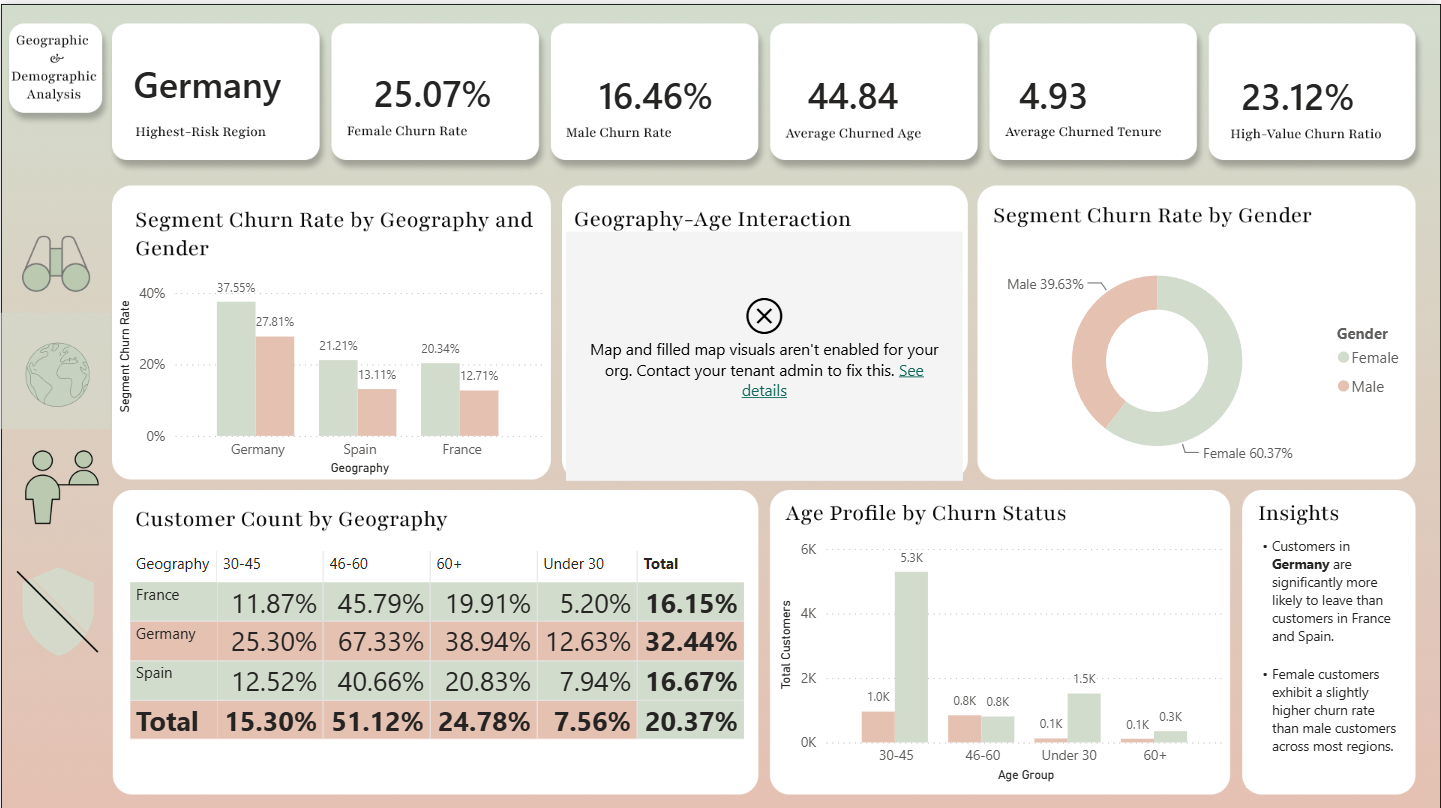

Layout of this report page (visuals, bound fields, positions):
{"tool":"powerbi","page":{"name":"Geographic & Demographic Analysis","canvas":[1280,720],"ordinal":1},"visuals":[{"type":"cardVisual","fields":{"Data":["Measures (2).Highest-Risk Region"]},"box":[88.8,15,191.2,108.8],"z":0},{"type":"cardVisual","fields":{"Data":["Measures (2).Female Churn Rate"]},"box":[302.5,23.8,175,108.8],"z":1000},{"type":"cardVisual","fields":{"Data":["Measures (2).Male Churn Rate"]},"box":[502.5,25,160,108.8],"z":2000},{"type":"cardVisual","fields":{"Data":["Measures (2).Average Churned Age"]},"box":[687.5,25,176.2,107.5],"z":3000},{"type":"cardVisual","fields":{"Data":["Measures (2).Average Churned Tenure"]},"box":[875,25,198.8,108.8],"z":4000},{"type":"cardVisual","fields":{"Data":["Measures (2).High-Value Churn Ratio"]},"box":[1073.8,26.2,185,108.8],"z":5000},{"type":"clusteredColumnChart","fields":{"Category":["Bank_Customers.Geography"],"Series":["Bank_Customers.Gender"],"Y":["Measures (2).Segment Churn Rate"]},"box":[100,228.8,387.5,195],"z":6000},{"type":"pivotTable","fields":{"Rows":["Bank_Customers.Geography"],"Columns":["Bank_Customers.Age Group"],"Values":["Measures (2).Segment Churn Rate"]},"box":[110,481.2,558.8,215],"z":7000},{"type":"map","fields":{"Series":["Bank_Customers.Geography"],"Size":["Measures (2).Total Customers"]},"box":[502.5,202.5,352.5,221.2],"z":8000},{"type":"donutChart","fields":{"Category":["Bank_Customers.Gender"],"Y":["Measures (2).Segment Churn Rate"]},"box":[863.8,211.2,395,212.5],"z":9000},{"type":"clusteredColumnChart","title":"Age Profile by Churn Status","fields":{"Category":["Bank_Customers.Age Group"],"Series":["Bank_Customers.Churn Status"],"Y":["Measures (2).Total Customers"]},"box":[687.5,468.8,405,227.5],"z":10000},{"type":"actionButton","box":[0,387.7,100,82.3],"z":11000},{"type":"actionButton","box":[0,486.9,100,105.4],"z":12000},{"type":"actionButton","box":[0,193,100,83],"z":13000},{"type":"actionButton","box":[0,273.9,97.5,103.2],"z":13001},{"type":"textbox","box":[1106.7,468.9,144.4,227.8],"z":13002}]}

Visuals, with their boxes in screenshot pixels (x1, y1, x2, y2), scaled from the page's 1280x720 canvas onto the 1441x808 screenshot:
cardVisual - Measures (2).Highest-Risk Region: [left=100, top=17, right=315, bottom=139]
cardVisual - Measures (2).Female Churn Rate: [left=341, top=27, right=538, bottom=149]
cardVisual - Measures (2).Male Churn Rate: [left=566, top=28, right=746, bottom=150]
cardVisual - Measures (2).Average Churned Age: [left=774, top=28, right=972, bottom=149]
cardVisual - Measures (2).Average Churned Tenure: [left=985, top=28, right=1209, bottom=150]
cardVisual - Measures (2).High-Value Churn Ratio: [left=1209, top=29, right=1417, bottom=152]
clusteredColumnChart - Bank_Customers.Geography x Bank_Customers.Gender: [left=113, top=257, right=549, bottom=476]
pivotTable - Bank_Customers.Geography x Bank_Customers.Age Group: [left=124, top=540, right=753, bottom=781]
map - Bank_Customers.Geography x Measures (2).Total Customers: [left=566, top=227, right=963, bottom=475]
donutChart - Bank_Customers.Gender x Measures (2).Segment Churn Rate: [left=972, top=237, right=1417, bottom=475]
"Age Profile by Churn Status" clusteredColumnChart: [left=774, top=526, right=1230, bottom=781]
actionButton: [left=0, top=435, right=113, bottom=527]
actionButton: [left=0, top=546, right=113, bottom=665]
actionButton: [left=0, top=217, right=113, bottom=310]
actionButton: [left=0, top=307, right=110, bottom=423]
textbox: [left=1246, top=526, right=1408, bottom=782]
